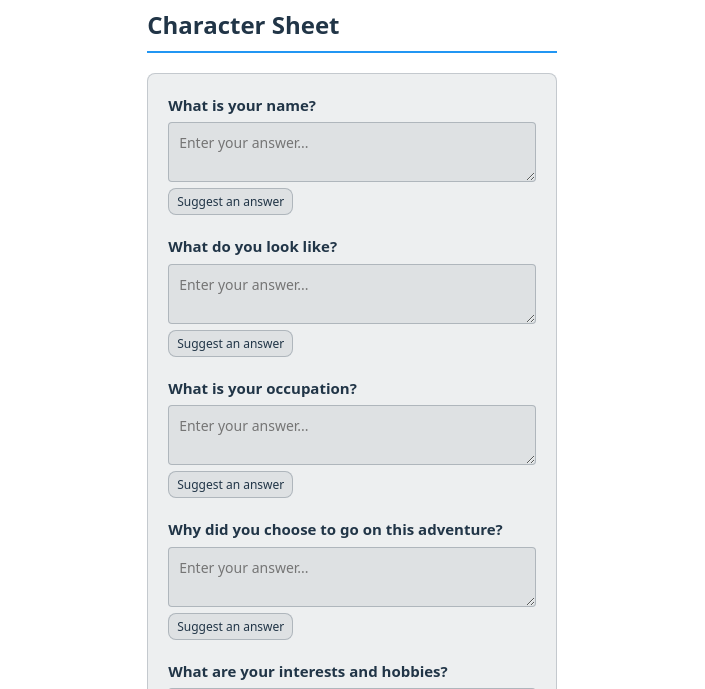
Test: MyCharacterSheet AI answer suggestions › shows an inline error and no preview when the AI returns invalid JSON
The width and height of the screenshot is (705, 689).
Click the button "Suggest an answer" below "What is your name?" at {"x": 231, "y": 202}, box [168, 188, 293, 215]
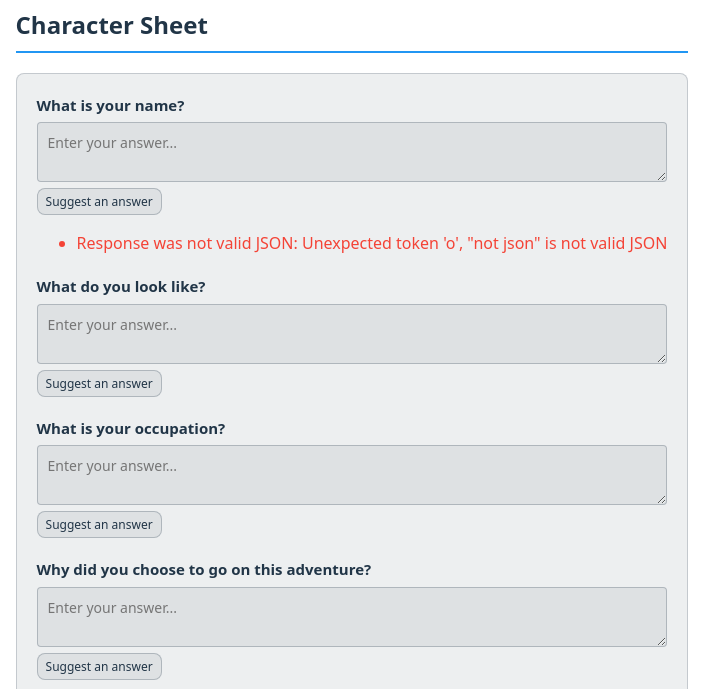
Check: the list item "not valid JSON" is shown, box [77, 232, 667, 254]
